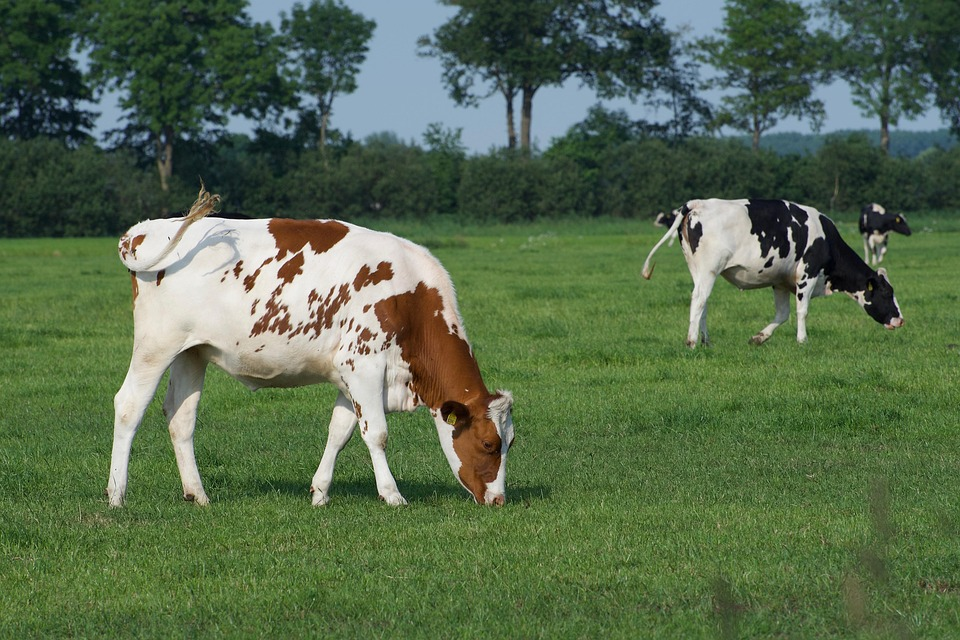cow: (103, 174, 515, 507), (641, 198, 905, 349), (858, 202, 911, 264)
